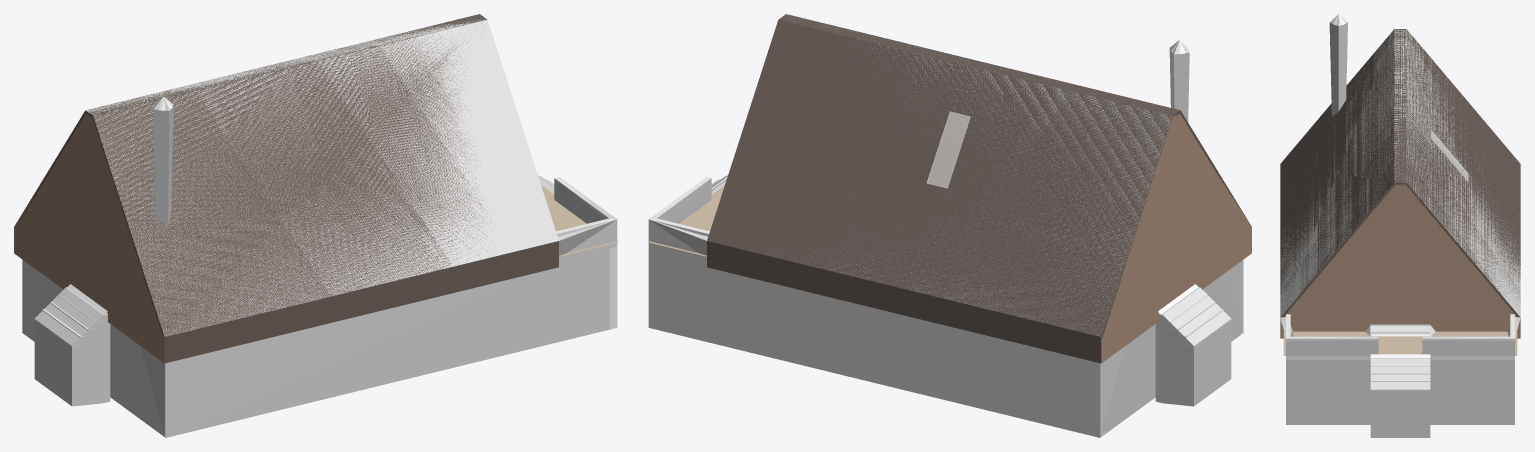
File: cabin2.dae
3 views of the same model, side by side, from view 1: azimuth 30°, elevation 25°; view 2: azimuth 150°, elevation 25°; view 3: azimuth 270°, elevation 25° (orthographic). The views are drawn at different scales.
Parts seen in each view (by area): view 1: Colmesh-1, cabin2_a400, cabin2_a40; view 2: cabin2_a400, Colmesh-1, cabin2_a40, cabin2_a150; view 3: Colmesh-1, cabin2_a400, cabin2_a40, cabin2_a150.
Part boxes in pixels (x1,y1,x2,y2): Colmesh-1: [22, 18, 617, 437]; cabin2_a400: [16, 14, 617, 437]; cabin2_a40: [14, 14, 618, 363]; cabin2_a400: [649, 14, 1251, 436]; Colmesh-1: [648, 15, 1242, 437]; cabin2_a40: [647, 14, 1251, 363]; cabin2_a150: [650, 112, 1198, 314]; Colmesh-1: [1280, 14, 1520, 437]; cabin2_a400: [1280, 14, 1520, 390]; cabin2_a40: [1280, 29, 1520, 355]; cabin2_a150: [1286, 131, 1514, 360].
Size of the model in its own units: 20.49 by 10.07 by 11.5.
